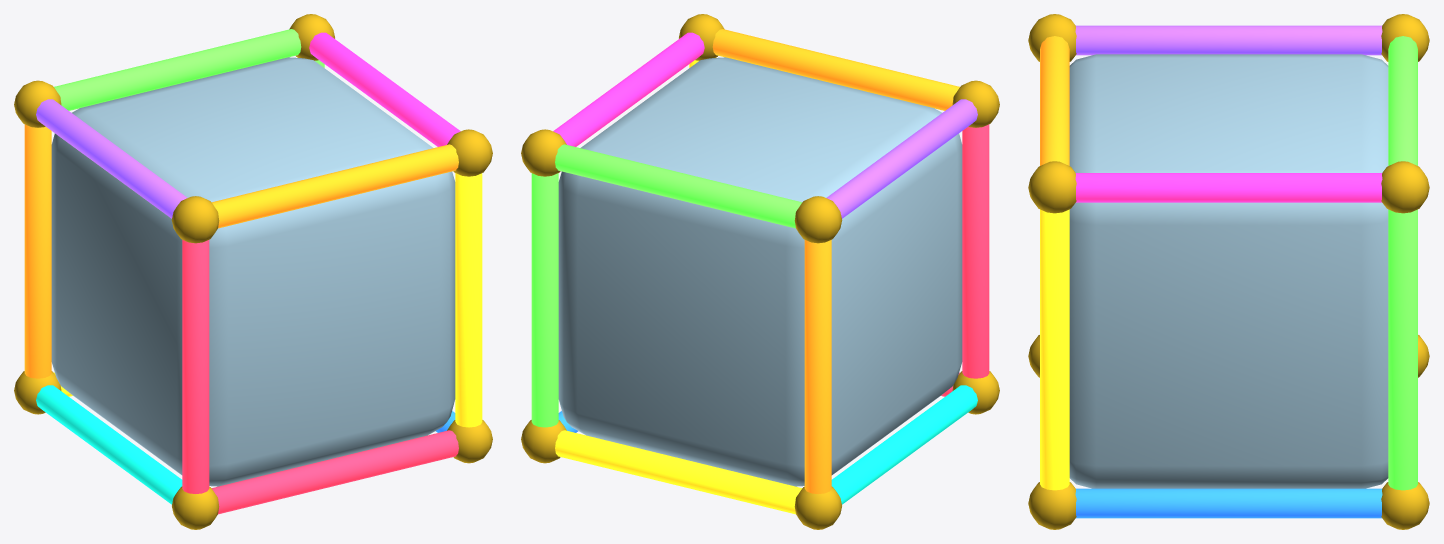
File: item-box.glb
3 views of the same model, side by side, from view 1: azimuth 30°, elevation 25°; view 2: azimuth 150°, elevation 25°; view 3: azimuth 270°, elevation 25° (orthographic). The views are drawn at different scales.
Parts seen in each view (by area): view 1: glass, Cylinder.010, Cylinder.008, Cylinder.009, Cylinder.001, Cylinder, Cylinder.003, Cylinder.006, Cylinder.004, Cylinder.007, Sphere.001, Sphere (+5 smaller); view 2: glass, Cylinder.011, Cylinder.009, Cylinder.008, Cylinder.003, Cylinder.002, Cylinder.001, Cylinder.006, Cylinder.004, Cylinder.007, Sphere.003, Sphere.002 (+5 smaller); view 3: glass, Cylinder.005, Cylinder.006, Cylinder.007, Cylinder.010, Cylinder.011, Cylinder.001, Cylinder.003, Sphere.005, Sphere.007, Sphere.004, Sphere.006 (+2 smaller).
Boxes of the visible parts, x1=… form: glass: x1=51, y1=57, x2=455, y2=486; Cylinder.010: x1=455, y1=173, x2=482, y2=427; Cylinder.008: x1=182, y1=240, x2=209, y2=493; Cylinder.009: x1=24, y1=124, x2=51, y2=378; Cylinder.001: x1=211, y1=144, x2=458, y2=228; Cylinder: x1=211, y1=430, x2=458, y2=514; Cylinder.003: x1=54, y1=29, x2=301, y2=110; Cylinder.006: x1=36, y1=99, x2=187, y2=218; Cylinder.004: x1=36, y1=385, x2=182, y2=504; Cylinder.007: x1=309, y1=32, x2=460, y2=146; Sphere.001: x1=171, y1=196, x2=219, y2=243; Sphere: x1=172, y1=486, x2=219, y2=529; glass: x1=558, y1=57, x2=962, y2=486; Cylinder.011: x1=531, y1=173, x2=558, y2=427; Cylinder.009: x1=804, y1=240, x2=831, y2=493; Cylinder.008: x1=962, y1=124, x2=989, y2=378; Cylinder.003: x1=555, y1=144, x2=802, y2=228; Cylinder.002: x1=555, y1=430, x2=802, y2=514; Cylinder.001: x1=712, y1=29, x2=959, y2=110; Cylinder.006: x1=826, y1=99, x2=977, y2=218; Cylinder.004: x1=831, y1=385, x2=977, y2=504; Cylinder.007: x1=553, y1=32, x2=704, y2=146; Sphere.003: x1=794, y1=196, x2=842, y2=243; Sphere.002: x1=794, y1=486, x2=841, y2=529; glass: x1=1069, y1=54, x2=1388, y2=488; Cylinder.005: x1=1075, y1=488, x2=1382, y2=518; Cylinder.006: x1=1075, y1=25, x2=1382, y2=55; Cylinder.007: x1=1075, y1=173, x2=1382, y2=202; Cylinder.010: x1=1040, y1=209, x2=1069, y2=490; Cylinder.011: x1=1388, y1=209, x2=1417, y2=490; Cylinder.001: x1=1040, y1=36, x2=1069, y2=165; Cylinder.003: x1=1388, y1=36, x2=1417, y2=165; Sphere.005: x1=1028, y1=161, x2=1076, y2=213; Sphere.007: x1=1381, y1=161, x2=1429, y2=213; Sphere.004: x1=1028, y1=482, x2=1076, y2=529; Sphere.006: x1=1381, y1=482, x2=1429, y2=529.
Bounding box in the file's own units: 2.42 × 2.42 × 2.42.
